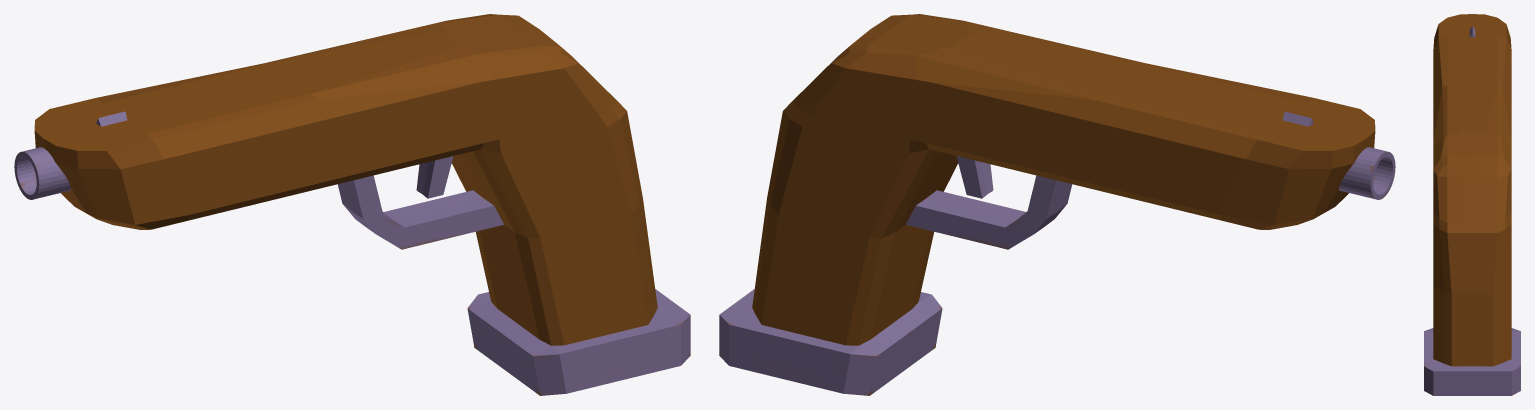
Rendered from pistol.fbx.
3 renders of one model, left to right at view 1: azimuth 30°, elevation 25°; view 2: azimuth 150°, elevation 25°; view 3: azimuth 270°, elevation 25°, orthographic. The views are drawn at different scales.
Visible parts, largest first — view 1: Pistol; view 2: Pistol; view 3: Pistol.
Boxes of the visible parts, x1,y1,x2,y2 form: Pistol: [14, 14, 690, 395]; Pistol: [719, 14, 1395, 395]; Pistol: [1424, 14, 1520, 395].
Bounding box in the file's own units: 350 × 188 × 78.45.
